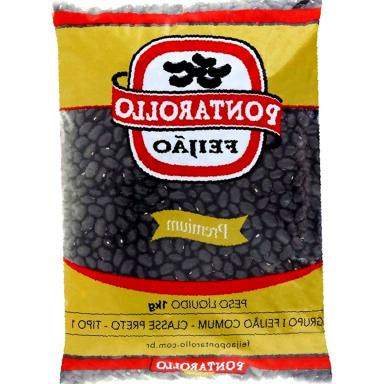beans package: (54, 0, 330, 383)
